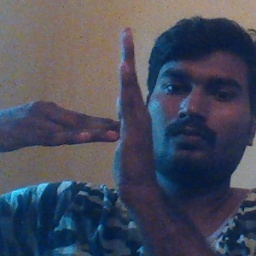Z: (48, 23, 159, 194)
